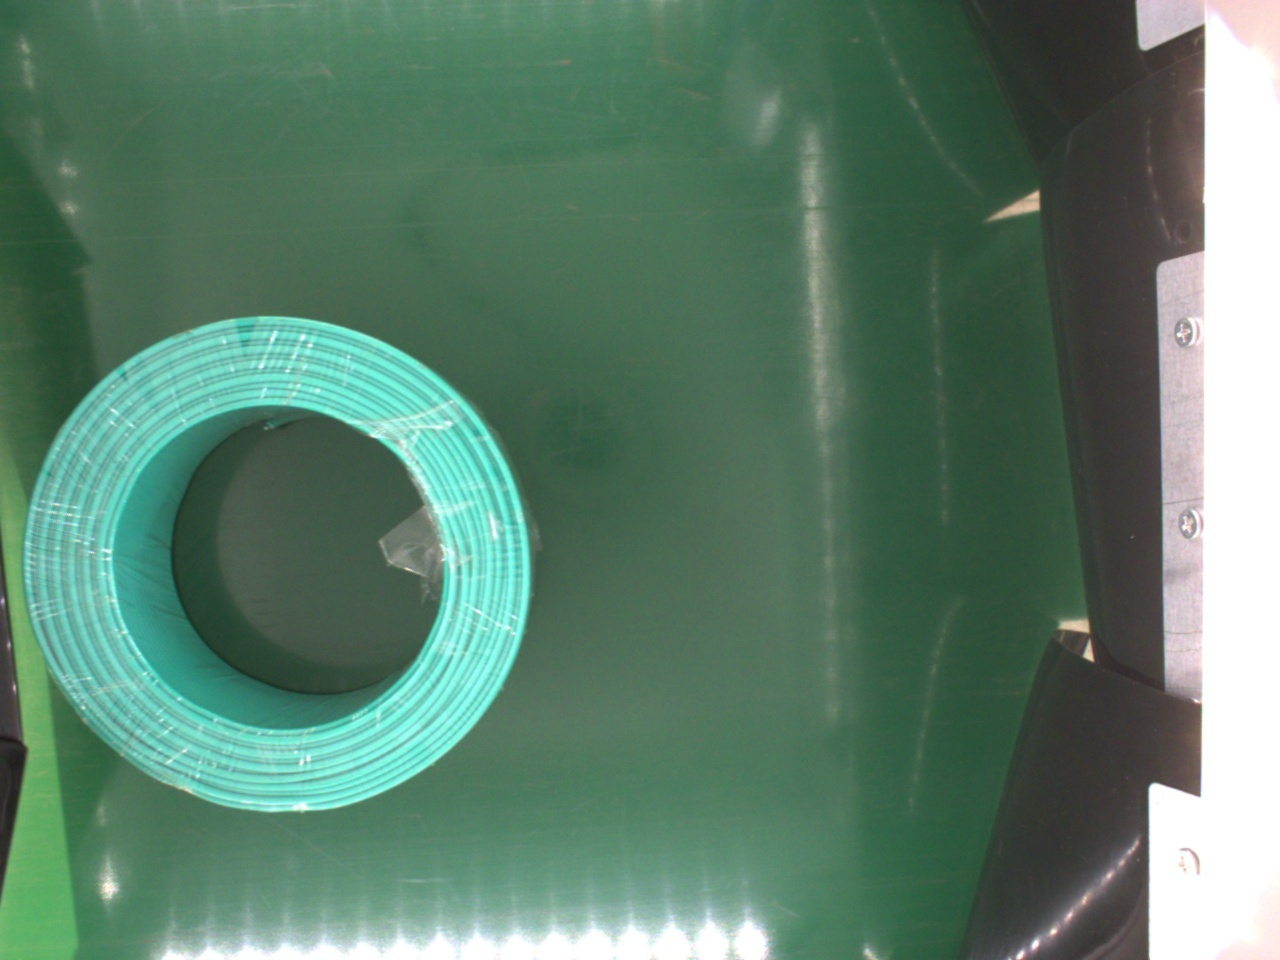green: (20, 316, 530, 816)
